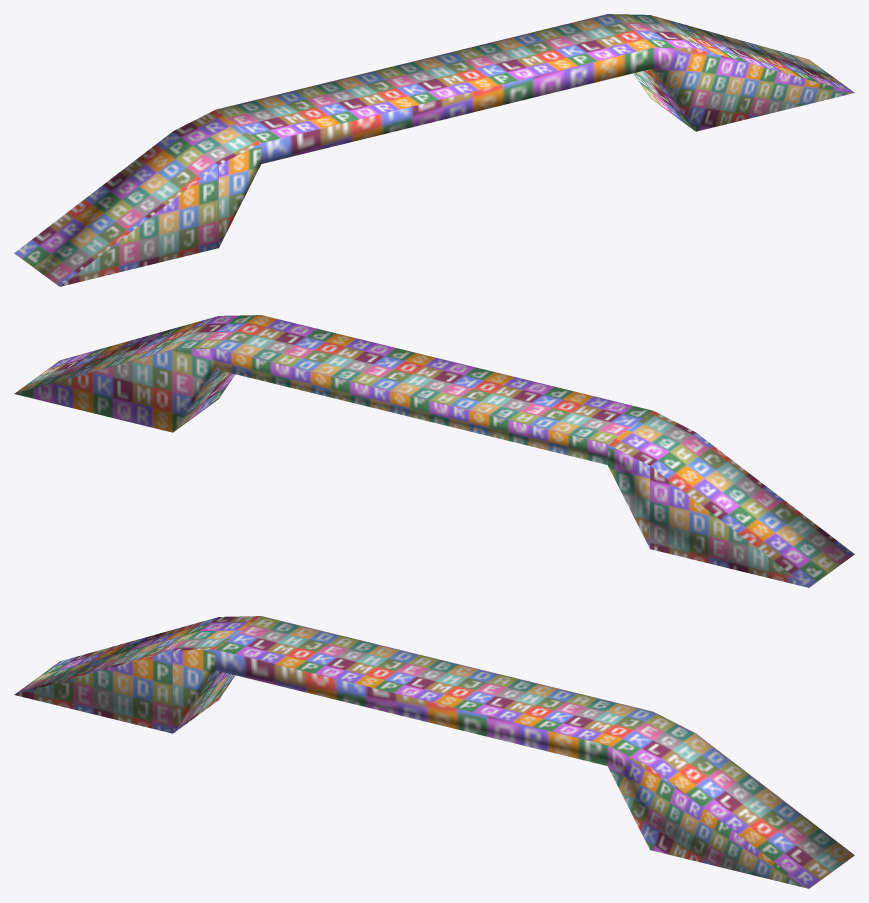
File: bridge.dae
3 renders of one model, top to bottom at view 1: azimuth 30°, elevation 25°; view 2: azimuth 150°, elevation 25°; view 3: azimuth 330°, elevation 25°, orthographic.
Visible parts, largest first — view 1: Cube1-0; view 2: Cube1-0; view 3: Cube1-0.
Boxes of the visible parts, bbox=[...] form: Cube1-0: bbox=[14, 14, 854, 286]; Cube1-0: bbox=[14, 315, 854, 587]; Cube1-0: bbox=[14, 616, 854, 888].
Size of the model in its own units: 20 by 2.27 by 2.
